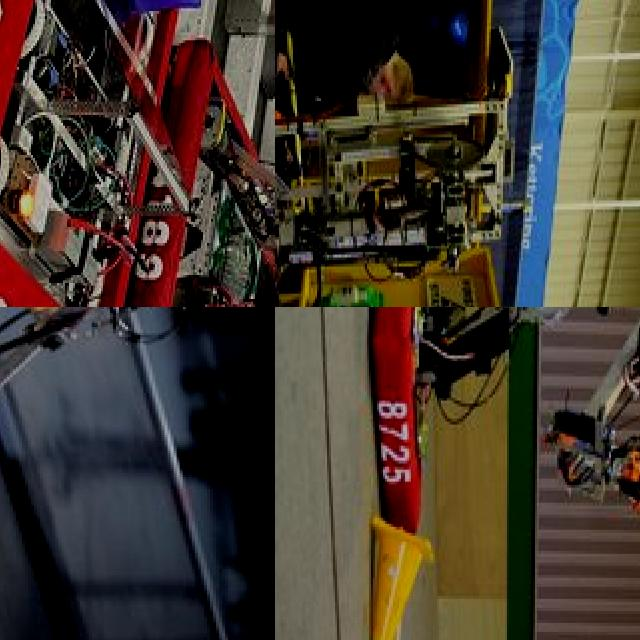FRC-Robots: (356, 307, 640, 569), (275, 0, 507, 307), (0, 0, 208, 307), (0, 307, 201, 542), (112, 72, 275, 307)
